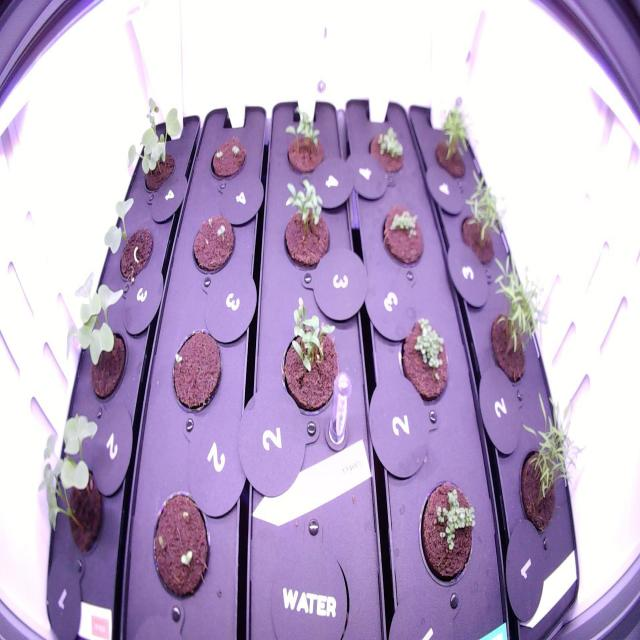germination: (503, 385, 589, 548), (276, 290, 351, 426), (480, 251, 550, 393), (148, 487, 216, 613), (414, 471, 478, 601), (449, 161, 513, 272), (276, 172, 338, 283), (162, 316, 226, 420), (395, 308, 454, 410), (101, 195, 160, 288), (184, 204, 242, 283), (278, 101, 332, 181), (430, 102, 480, 187), (375, 197, 428, 273), (362, 122, 410, 181), (206, 128, 253, 188)
